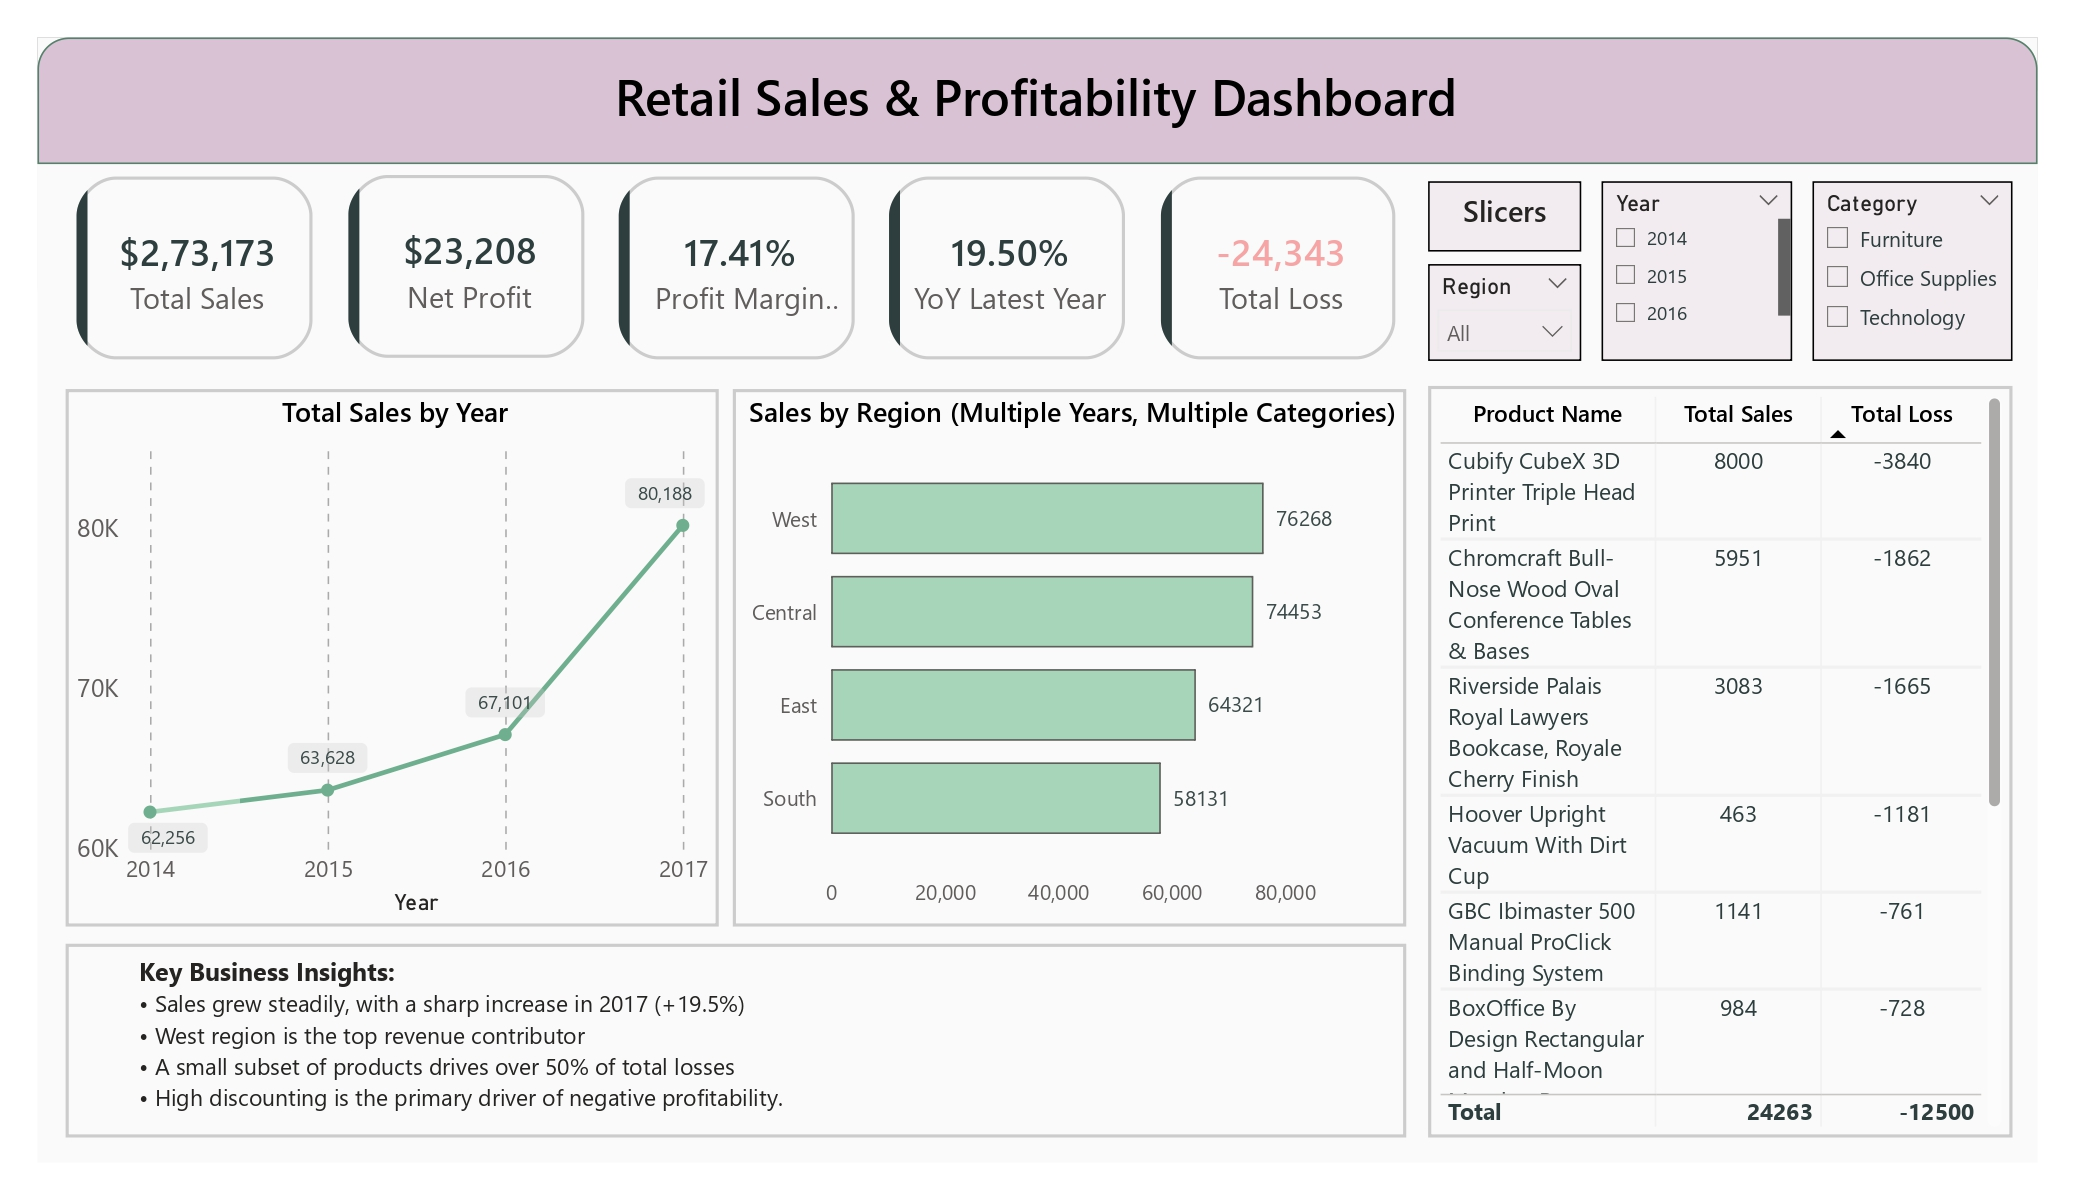

What the dashboard file says about the page in this screenshot:
{"tool":"powerbi","page":{"name":"Executive Overview","canvas":[1280,720],"ordinal":0},"visuals":[{"type":"cardVisual","fields":{"Data":["superstore.Total Sales"]},"box":[18.4,82.2,165,131.3],"z":9000},{"type":"shape","box":[0,0,1280.3,81],"z":10000},{"type":"textbox","title":"Retail Sales & Profitability Dashboard","box":[293.7,15.1,690.2,52.1],"z":11000},{"type":"cardVisual","fields":{"Data":["Sum(superstore.Profit)"]},"box":[191.7,81,165,131.3],"z":12000},{"type":"cardVisual","fields":{"Data":["superstore.Profit Margin %"]},"box":[365,82.2,165,131.3],"z":13000},{"type":"lineChart","fields":{"Y":["superstore.Total Sales"],"Category":["superstore.Year"]},"box":[18.4,224.5,417.2,344.8],"z":14000},{"type":"barChart","fields":{"Y":["superstore.Total Sales"],"Category":["superstore.Region"]},"box":[445.4,224.5,430.7,344.8],"z":15000},{"type":"cardVisual","fields":{"Data":["superstore.Total Loss"]},"box":[711.7,82.2,164.4,131.3],"z":16000},{"type":"cardVisual","fields":{"Data":["superstore.YoY Latest"]},"box":[538.3,82.2,165,131.3],"z":17000},{"type":"textbox","box":[18.4,580.4,857.7,123.9],"z":18000},{"type":"slicer","fields":{"Values":["superstore.Region"]},"box":[889.6,144.8,98.2,62.6],"z":19000},{"type":"slicer","fields":{"Values":["superstore.Category"]},"box":[1136.2,92,127.6,115.3],"z":20000},{"type":"slicer","fields":{"Values":["Date Table.Year"]},"box":[1001.2,92,121.5,115.3],"z":21000},{"type":"tableEx","fields":{"Values":["superstore.Product Name","superstore.Total Sales","superstore.Total Loss"]},"box":[889.6,223.3,374.2,481],"z":23000},{"type":"textbox","box":[889.6,92,98.2,45.4],"z":25000}]}

Visuals, with their boxes on the page's 1280x720 design canvas (x1, y1, x2, y2). These are canvas units, not pixel positions in the 2075x1200 screenshot, which may show the page scaled, cropped or inside an application window:
cardVisual - superstore.Total Sales: pyautogui.locateOnScreen(18, 82, 183, 214)
shape: pyautogui.locateOnScreen(0, 0, 1280, 81)
"Retail Sales & Profitability Dashboard" textbox: pyautogui.locateOnScreen(294, 15, 984, 67)
cardVisual - Sum(superstore.Profit): pyautogui.locateOnScreen(192, 81, 357, 212)
cardVisual - superstore.Profit Margin %: pyautogui.locateOnScreen(365, 82, 530, 214)
lineChart - superstore.Total Sales x superstore.Year: pyautogui.locateOnScreen(18, 224, 436, 569)
barChart - superstore.Total Sales x superstore.Region: pyautogui.locateOnScreen(445, 224, 876, 569)
cardVisual - superstore.Total Loss: pyautogui.locateOnScreen(712, 82, 876, 214)
cardVisual - superstore.YoY Latest: pyautogui.locateOnScreen(538, 82, 703, 214)
textbox: pyautogui.locateOnScreen(18, 580, 876, 704)
slicer - superstore.Region: pyautogui.locateOnScreen(890, 145, 988, 207)
slicer - superstore.Category: pyautogui.locateOnScreen(1136, 92, 1264, 207)
slicer - Date Table.Year: pyautogui.locateOnScreen(1001, 92, 1123, 207)
tableEx - superstore.Product Name x superstore.Total Sales: pyautogui.locateOnScreen(890, 223, 1264, 704)
textbox: pyautogui.locateOnScreen(890, 92, 988, 137)
